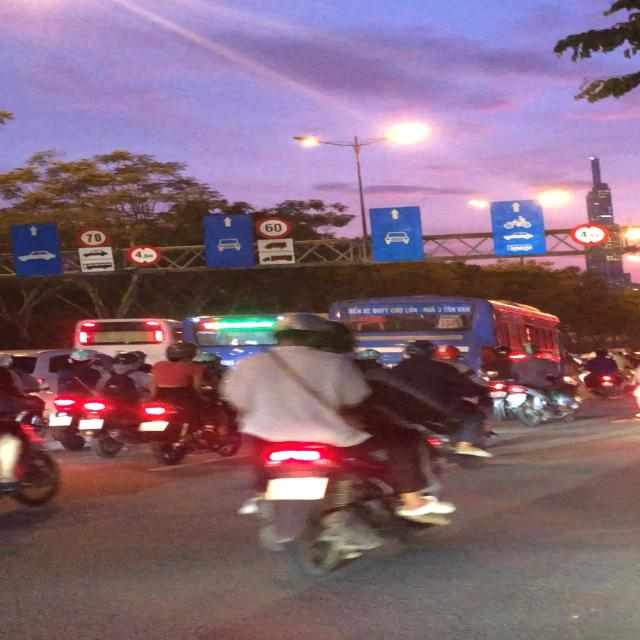Bien bao han che chieu cao: (570, 220, 612, 248), (125, 243, 163, 268)
Bien bao toc do toi da cho phep: (248, 216, 292, 238), (75, 224, 112, 248)
